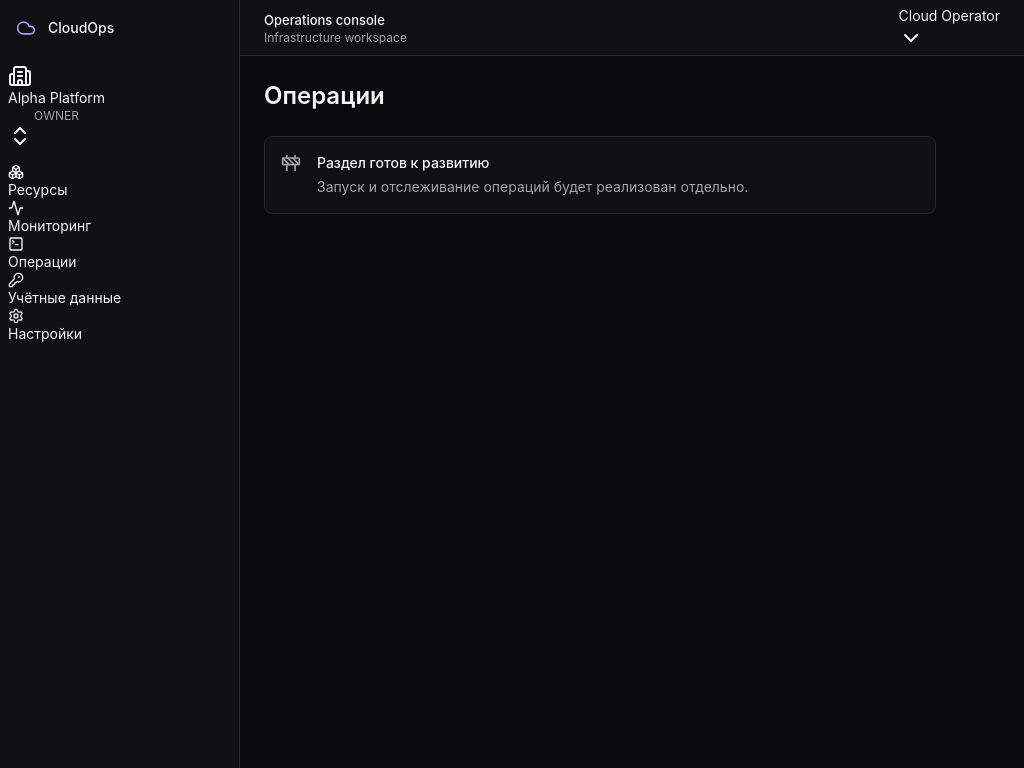
organization-scoped application routing › switches organization while preserving the logical section and reloads the role
Expected: the heading "Операции" is shown, x1=264 y1=81 x2=385 y2=110
Click the button with aria-label "Текущая организация: Alpha Platform. Переключить организацию": [57, 106] box x1=8 y1=64 x2=105 y2=148
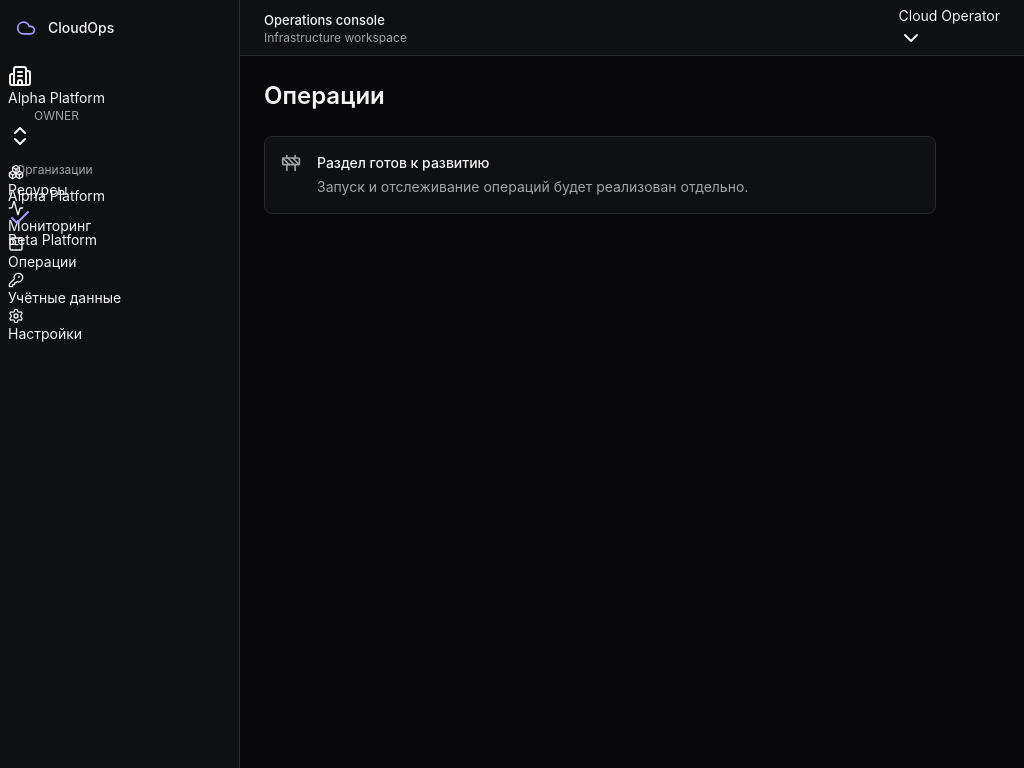
Click the menu item "Beta Platform": [57, 240] box x1=8 y1=230 x2=105 y2=250
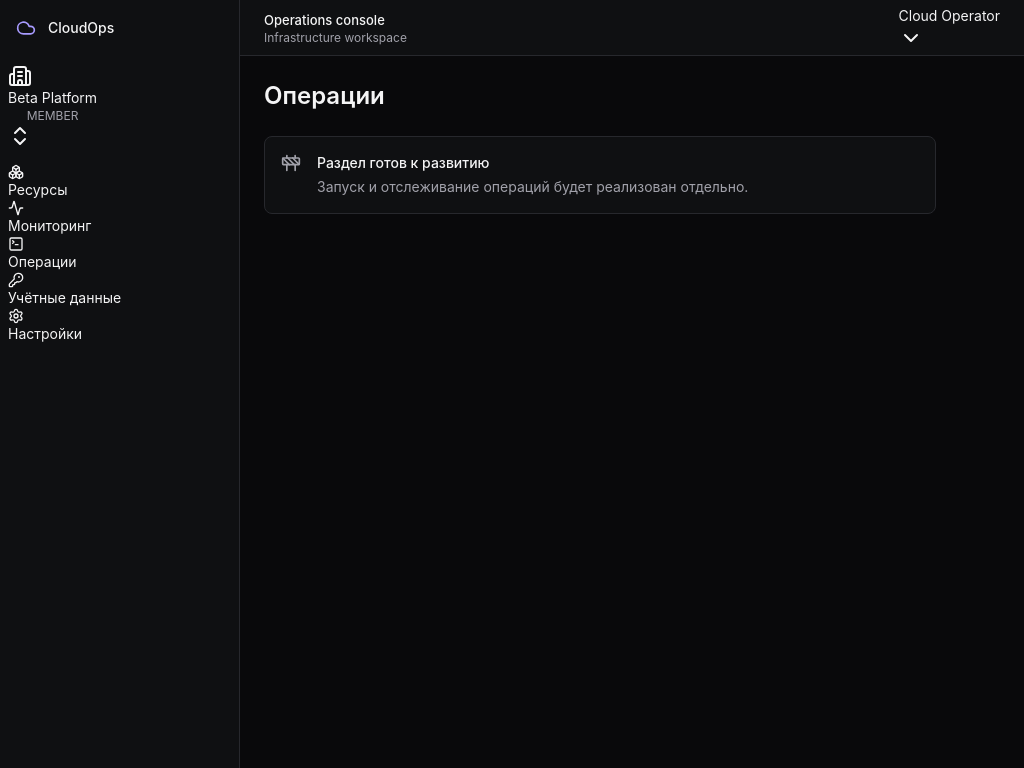
Expected: the button with aria-label "Текущая организация: Beta Platform. Переключить организацию" shows "MEMBER", x1=8 y1=64 x2=97 y2=148
